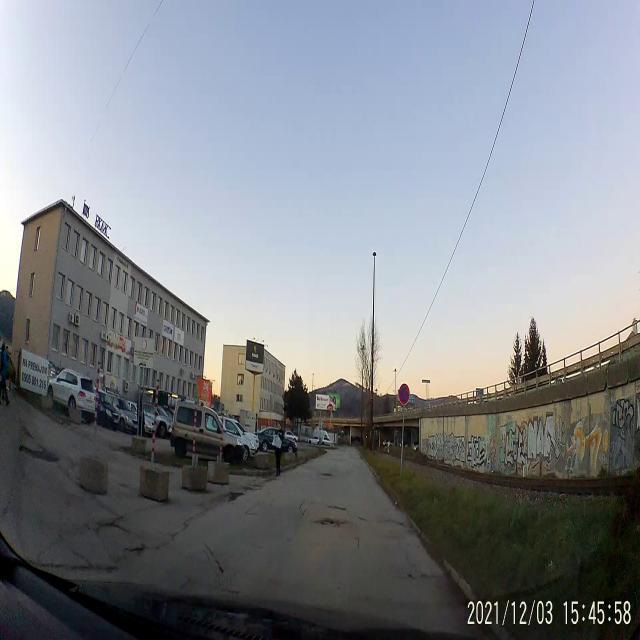Pothole: (314, 514, 344, 534), (326, 502, 346, 518), (316, 470, 338, 480)
